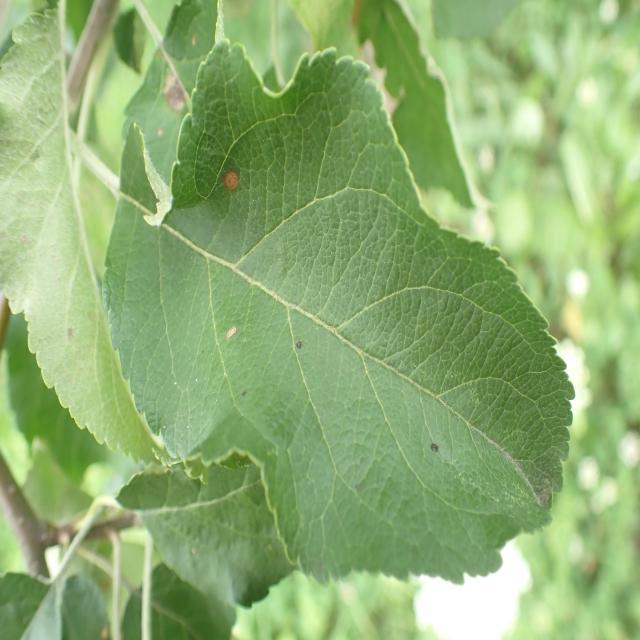Black Rot: (158, 64, 202, 122), (213, 160, 254, 217)
